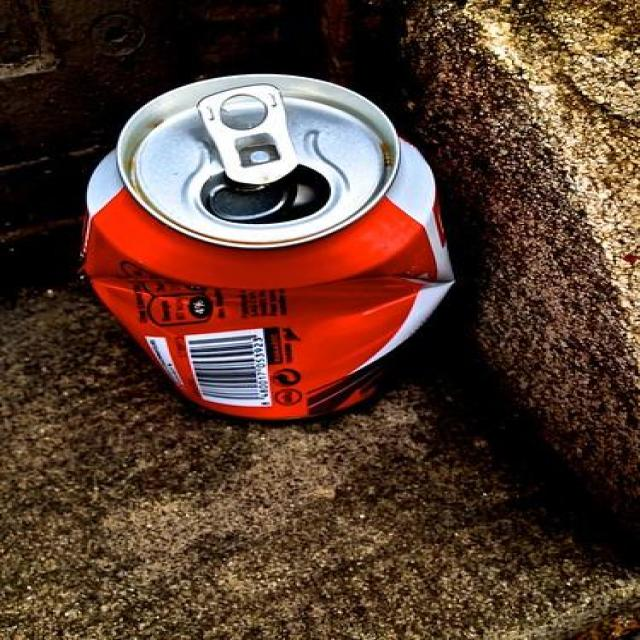can: (78, 73, 457, 423)
pop tab: (196, 83, 295, 185)
